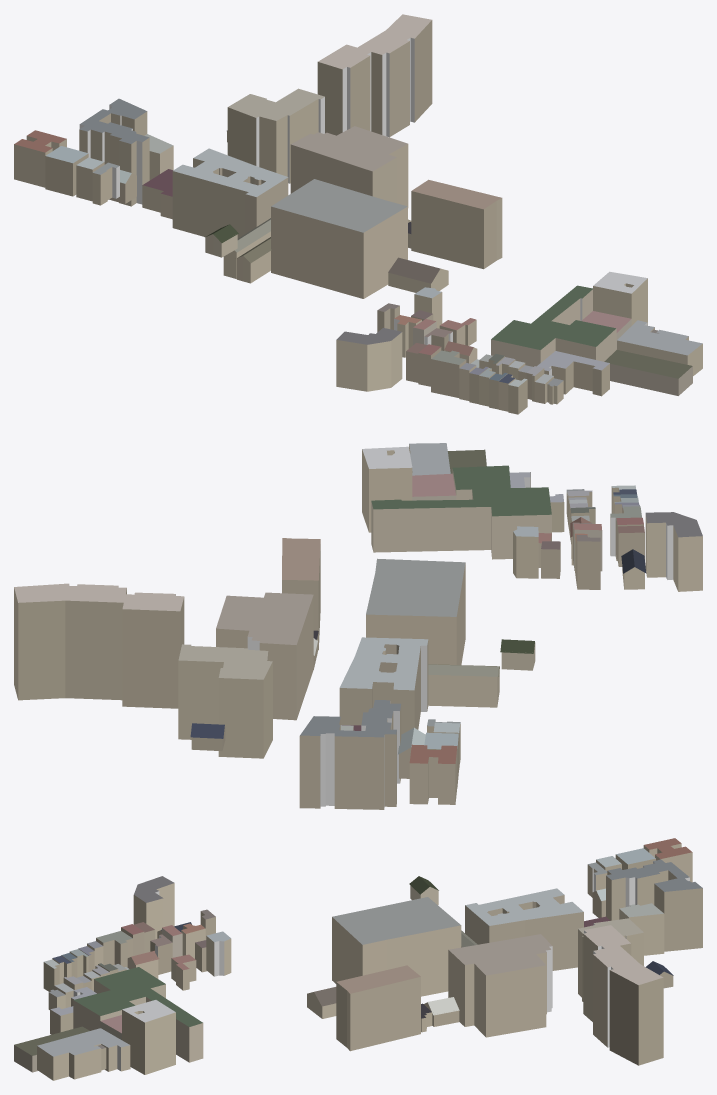
3 views of the same model, one above another, from view 1: azimuth 30°, elevation 25°; view 2: azimuth 150°, elevation 25°; view 3: azimuth 270°, elevation 25° (orthographic). The views are drawn at different scales.
Visible parts, largest first — view 1: tuile; view 2: tuile; view 3: tuile.
Boxes of the visible parts, x1,y1,x2,y2 form: tuile: (14,14,702,414); tuile: (14,443,702,809); tuile: (14,838,702,1080).
Size of the model in its own units: 175 by 49.48 by 273.
